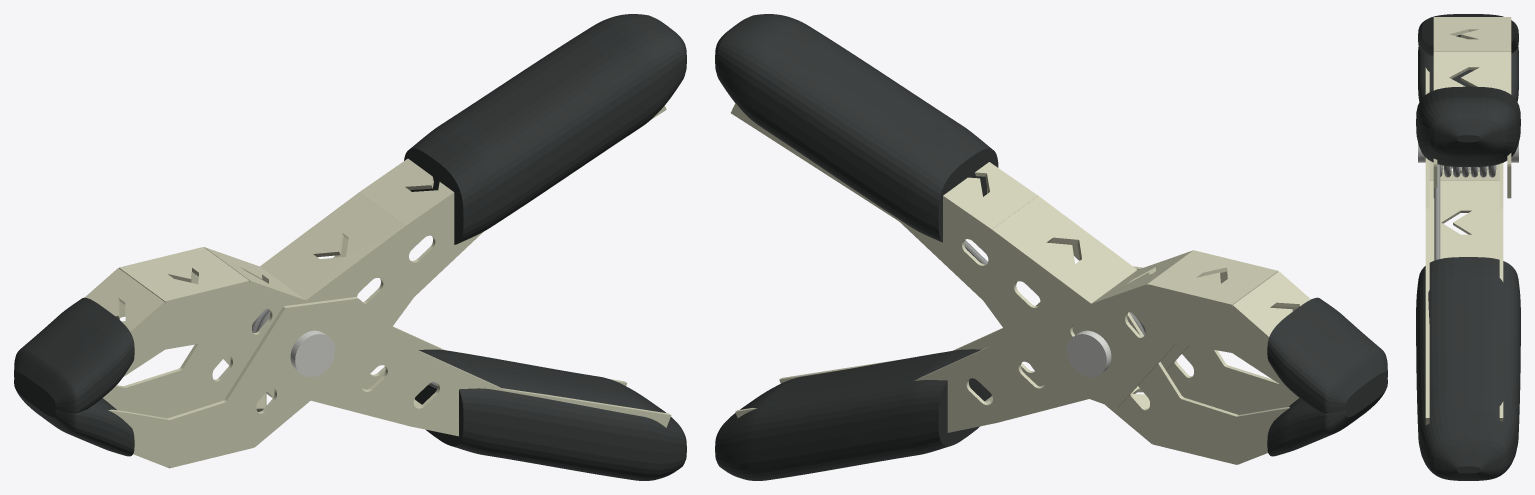
Rendered from clamp.glb.
3 renders of one model, left to right at view 1: azimuth 30°, elevation 25°; view 2: azimuth 150°, elevation 25°; view 3: azimuth 270°, elevation 25°, orthographic. The views are drawn at different scales.
Visible parts, largest first — view 1: 8_curved_dipped_handle_sleeve, 11_pierced_formed_sidewall, 18_curved_dipped_handle_sleeve, 1_pierced_formed_sidewall, 9_rubber_jaw_boot, 6_perforated_channel_spine, 10_pierced_formed_sidewall, 4_perforated_channel_spine, 7_perforated_channel_spine, 19_rubber_jaw_boot, 3_perforated_channel_spine, 21_pivot_rivet (+1 smaller); view 2: 8_curved_dipped_handle_sleeve, 0_pierced_formed_sidewall, 18_curved_dipped_handle_sleeve, 10_pierced_formed_sidewall, 9_rubber_jaw_boot, 6_perforated_channel_spine, 11_pierced_formed_sidewall, 4_perforated_channel_spine, 19_rubber_jaw_boot, 7_perforated_channel_spine, 3_perforated_channel_spine, 20_pivot_rivet (+1 smaller); view 3: 18_curved_dipped_handle_sleeve, 8_curved_dipped_handle_sleeve, 16_perforated_channel_spine, 5_perforated_channel_spine, 4_perforated_channel_spine, 11_pierced_formed_sidewall, 19_rubber_jaw_boot, 9_rubber_jaw_boot, 10_pierced_formed_sidewall, 25_spring_leg, 14_perforated_channel_spine, 23_seven_turn_torsion_spring (+2 smaller).
Boxes of the visible parts, x1,y1,x2,y2 form: 8_curved_dipped_handle_sleeve: [404, 14, 686, 244]; 11_pierced_formed_sidewall: [108, 297, 671, 466]; 18_curved_dipped_handle_sleeve: [415, 349, 686, 480]; 1_pierced_formed_sidewall: [123, 105, 666, 397]; 9_rubber_jaw_boot: [14, 297, 134, 413]; 6_perforated_channel_spine: [260, 192, 405, 301]; 10_pierced_formed_sidewall: [103, 279, 627, 418]; 4_perforated_channel_spine: [119, 247, 249, 305]; 7_perforated_channel_spine: [359, 158, 454, 228]; 19_rubber_jaw_boot: [14, 379, 134, 456]; 3_perforated_channel_spine: [85, 268, 165, 334]; 21_pivot_rivet: [290, 330, 335, 376]; 8_curved_dipped_handle_sleeve: [715, 14, 998, 242]; 0_pierced_formed_sidewall: [731, 103, 1291, 408]; 18_curved_dipped_handle_sleeve: [715, 349, 991, 480]; 10_pierced_formed_sidewall: [735, 302, 1289, 461]; 9_rubber_jaw_boot: [1267, 297, 1387, 413]; 6_perforated_channel_spine: [991, 196, 1137, 305]; 11_pierced_formed_sidewall: [779, 266, 1298, 414]; 4_perforated_channel_spine: [1147, 250, 1278, 308]; 19_rubber_jaw_boot: [1267, 379, 1387, 456]; 7_perforated_channel_spine: [943, 162, 1037, 232]; 3_perforated_channel_spine: [1231, 271, 1310, 338]; 20_pivot_rivet: [1066, 330, 1111, 376]; 18_curved_dipped_handle_sleeve: [1416, 257, 1520, 480]; 8_curved_dipped_handle_sleeve: [1416, 86, 1520, 166]; 16_perforated_channel_spine: [1429, 181, 1499, 262]; 5_perforated_channel_spine: [1433, 52, 1511, 94]; 4_perforated_channel_spine: [1433, 17, 1511, 51]; 11_pierced_formed_sidewall: [1425, 67, 1429, 425]; 19_rubber_jaw_boot: [1418, 46, 1518, 101]; 9_rubber_jaw_boot: [1418, 14, 1518, 56]; 10_pierced_formed_sidewall: [1499, 163, 1503, 421]; 25_spring_leg: [1434, 164, 1440, 260]; 14_perforated_channel_spine: [1429, 161, 1499, 180]; 23_seven_turn_torsion_spring: [1440, 165, 1496, 177].
Bounding box in the file's own units: 0.1412 × 0.0932 × 0.0238.
